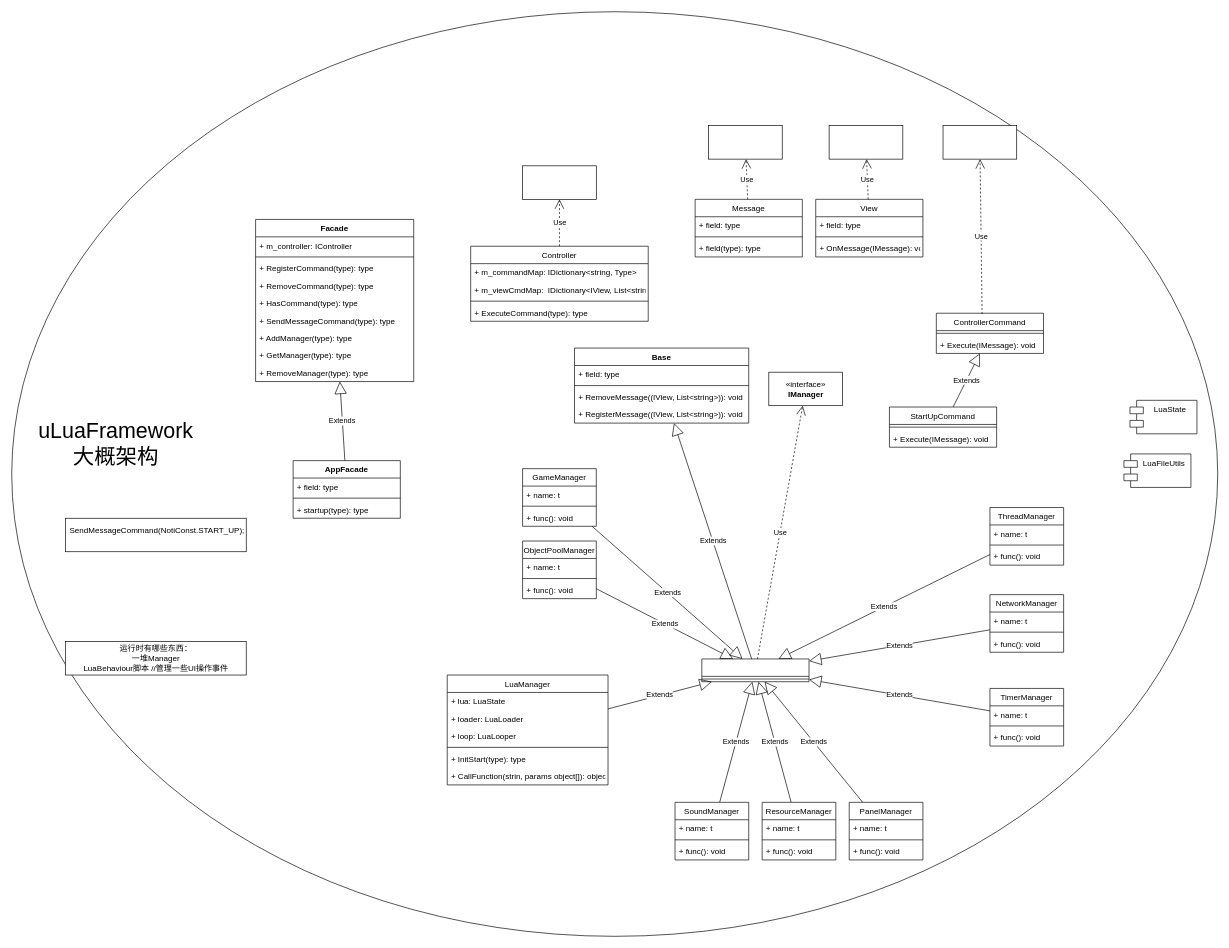
The diagram is 1229 pixels wide and 948 high, and some of its shapes have lost their labels. Each missing label, with the centre of its shape:
Manager: (x=755, y=670)
«interface» ICommand: (x=979, y=142)
«interface» IController: (x=559, y=182)
«interface» IMessage: (x=745, y=142)
«interface» IView: (x=865, y=142)
